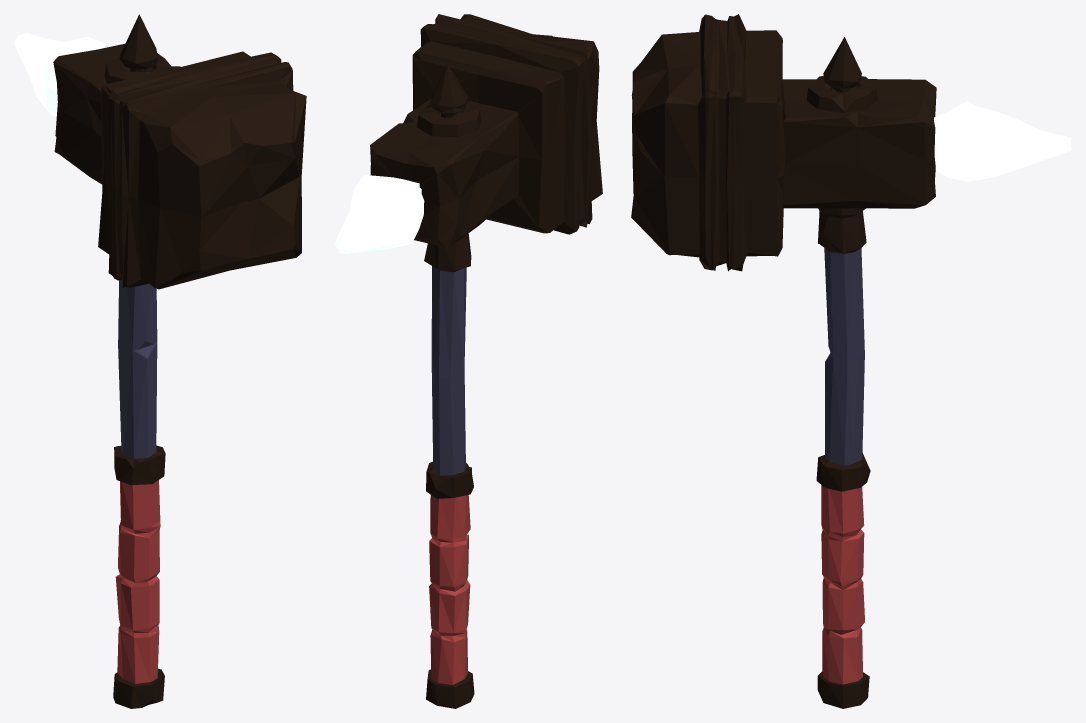
Rendered from SFFA_Weapon_Hammer_Iron_005.fbx.
3 views of the same model, side by side, from view 1: azimuth 30°, elevation 25°; view 2: azimuth 150°, elevation 25°; view 3: azimuth 270°, elevation 25° (orthographic). The views are drawn at different scales.
Parts seen in each view (by area): view 1: SFFA_Weapon_Hammer_Iron_005; view 2: SFFA_Weapon_Hammer_Iron_005; view 3: SFFA_Weapon_Hammer_Iron_005.
Part boxes in pixels (x1,y1,x2,y2): SFFA_Weapon_Hammer_Iron_005: (14, 14, 306, 708); SFFA_Weapon_Hammer_Iron_005: (335, 14, 602, 708); SFFA_Weapon_Hammer_Iron_005: (631, 14, 1071, 708).
Size of the model in its own units: 19.93 by 76.81 by 46.09.
